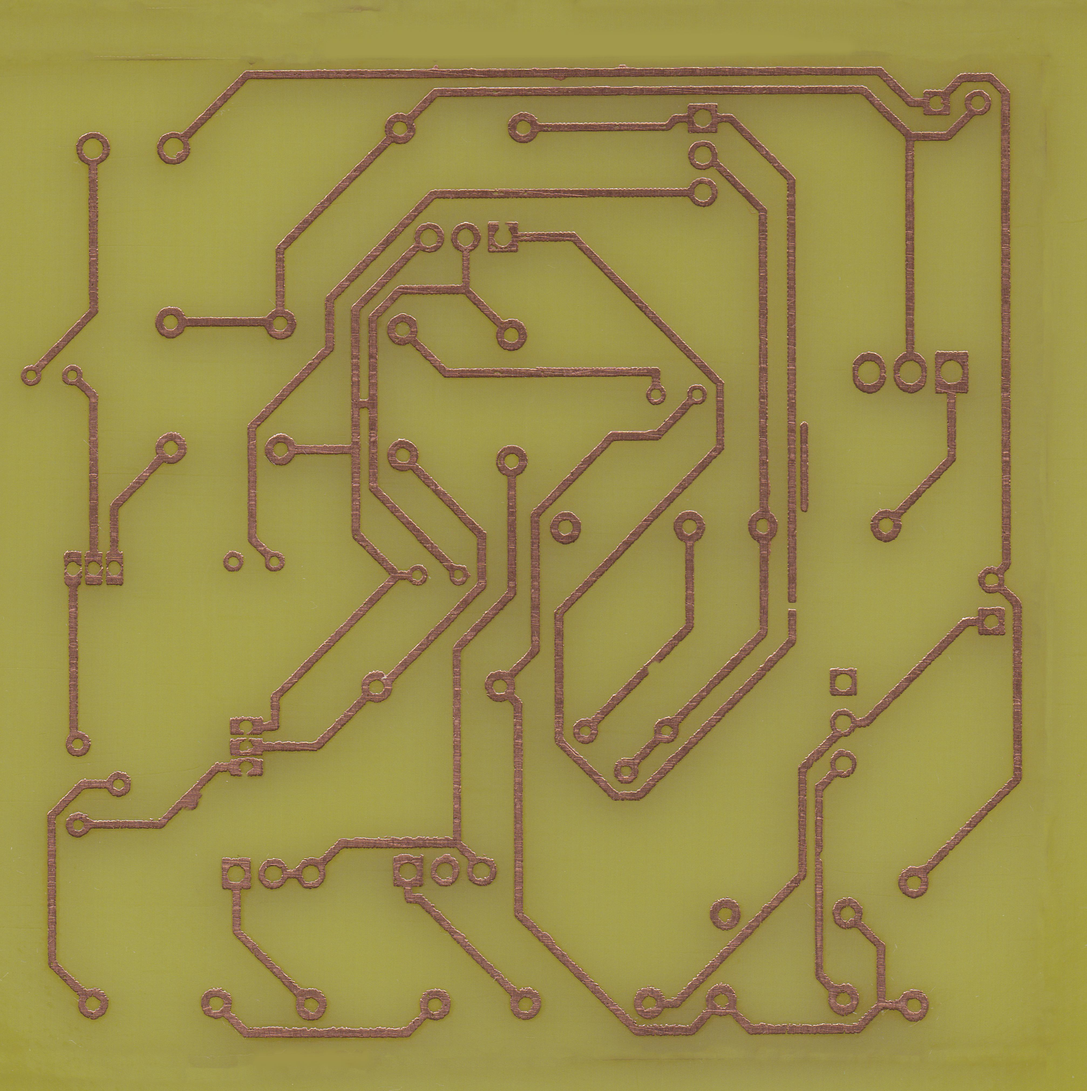missing_hole: (483, 218, 521, 254), (227, 756, 266, 778)
mouse_bite: (641, 657, 663, 676)
open_circuit: (786, 595, 798, 617)
short: (351, 393, 377, 414)
spur: (174, 783, 203, 818), (552, 63, 572, 83)
spurious_copper: (798, 421, 811, 514)
